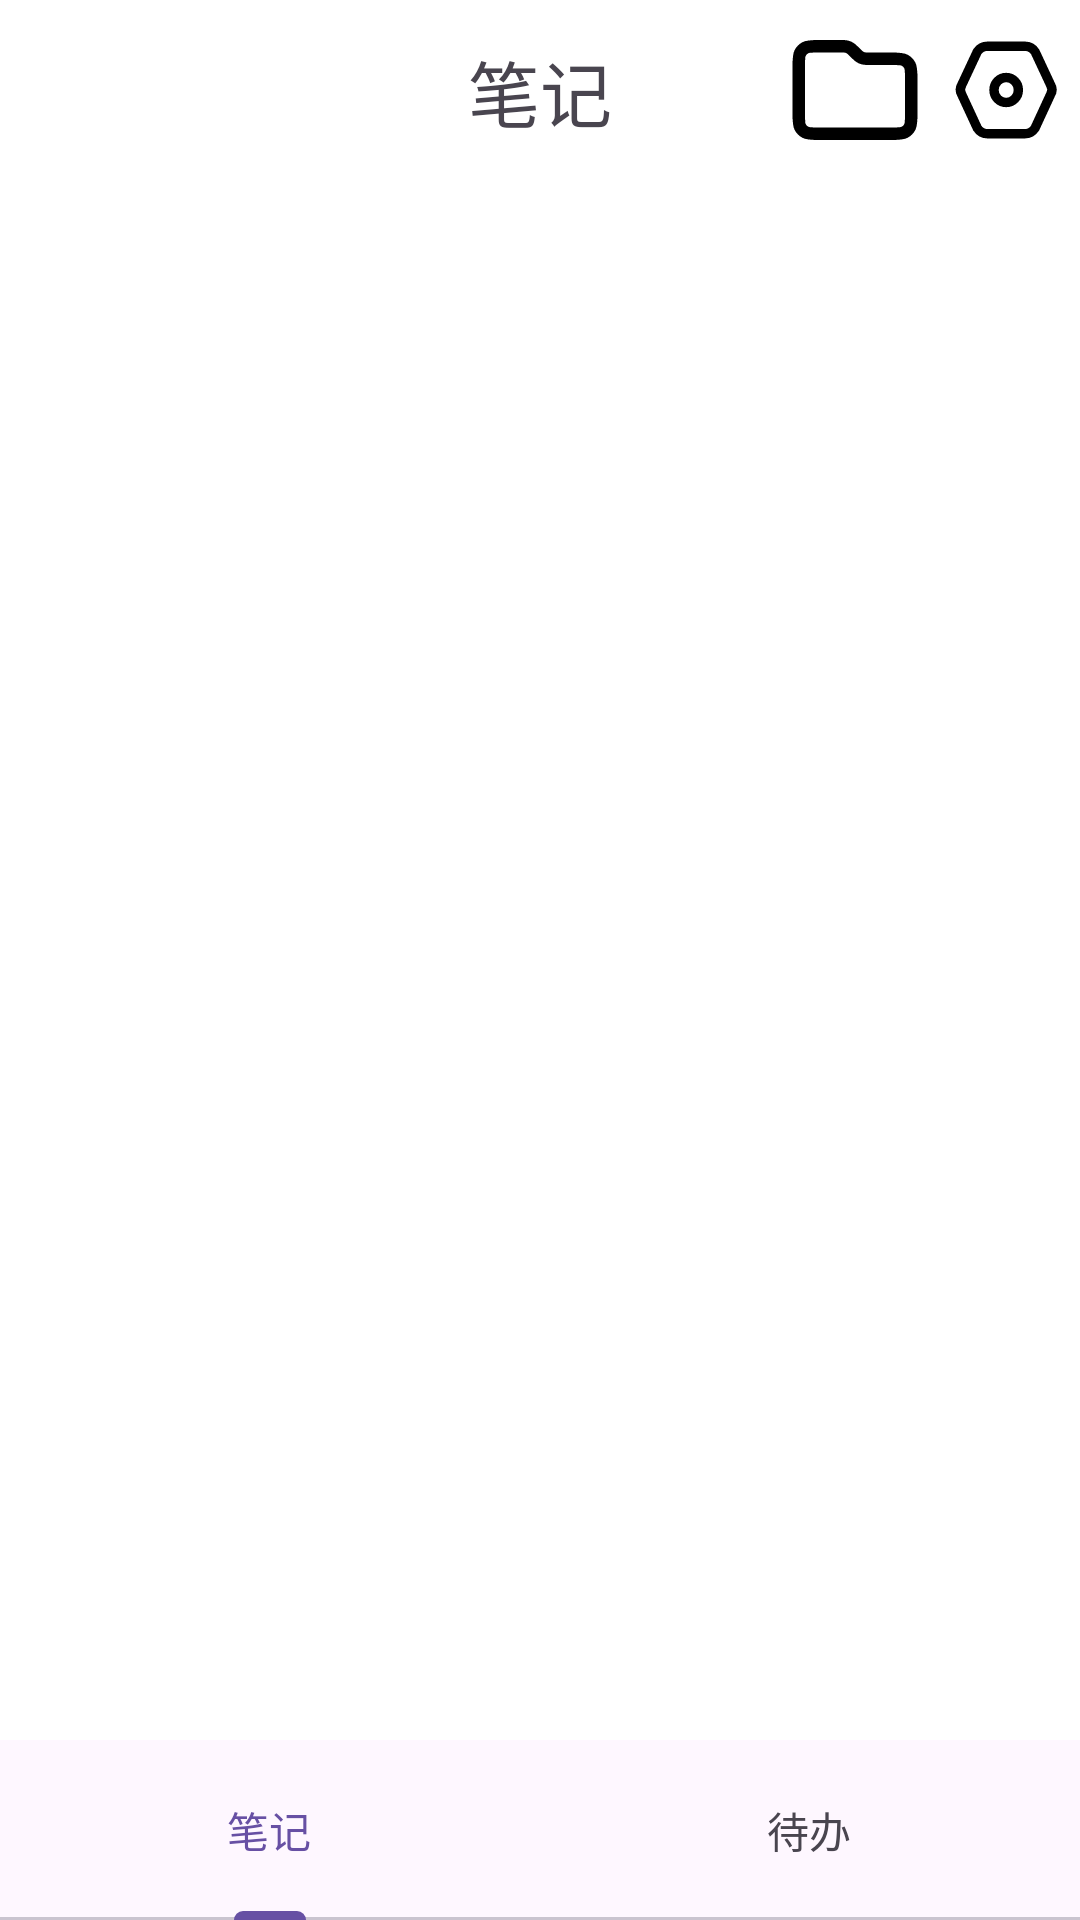

Named icons in this screenshot (1080px×1920px) and their centers, (x,y):
settings: (1006,90)
文件夹: (855,90)
